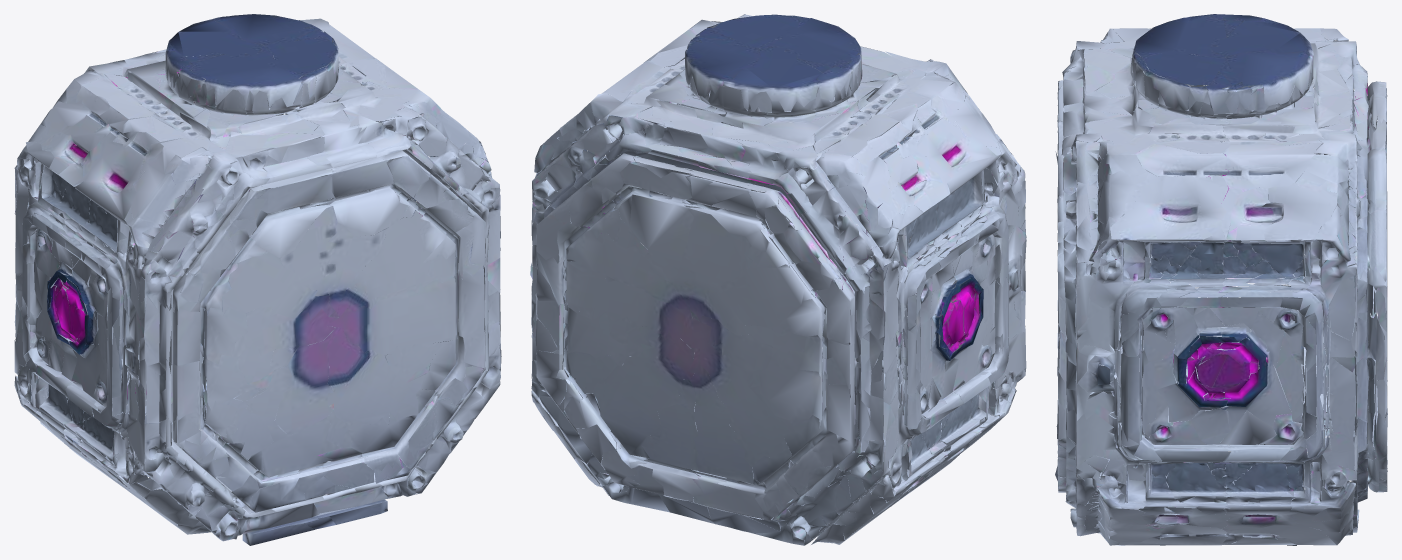
Rendered from block.glb.
3 views of the same model, side by side, from view 1: azimuth 30°, elevation 25°; view 2: azimuth 150°, elevation 25°; view 3: azimuth 270°, elevation 25° (orthographic). The views are drawn at different scales.
Parts seen in each view (by area): view 1: Mesh_0; view 2: Mesh_0; view 3: Mesh_0.
Boxes of the visible parts, box(x1,y1,x2,y2) form: Mesh_0: box(14, 14, 501, 545); Mesh_0: box(530, 14, 1026, 545); Mesh_0: box(1055, 14, 1387, 545).
Size of the model in its own units: 1.73 by 1.91 by 1.28.
Materials: 1 (1 with a texture image).
